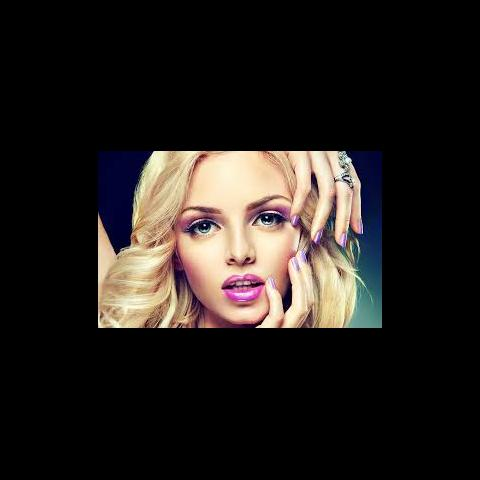opened: (179, 201, 293, 245)
